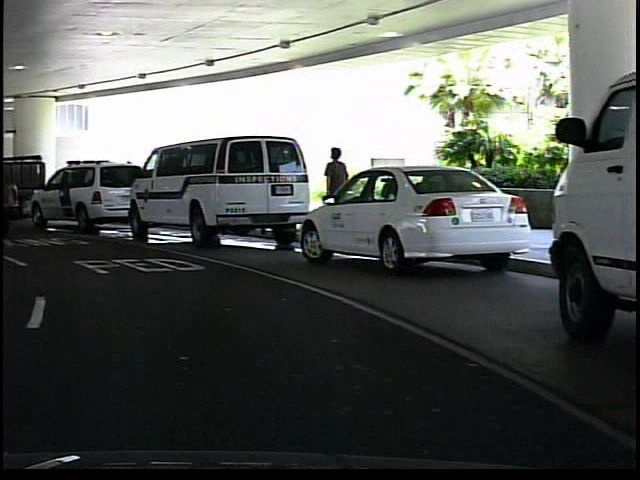person: (317, 143, 352, 235)
